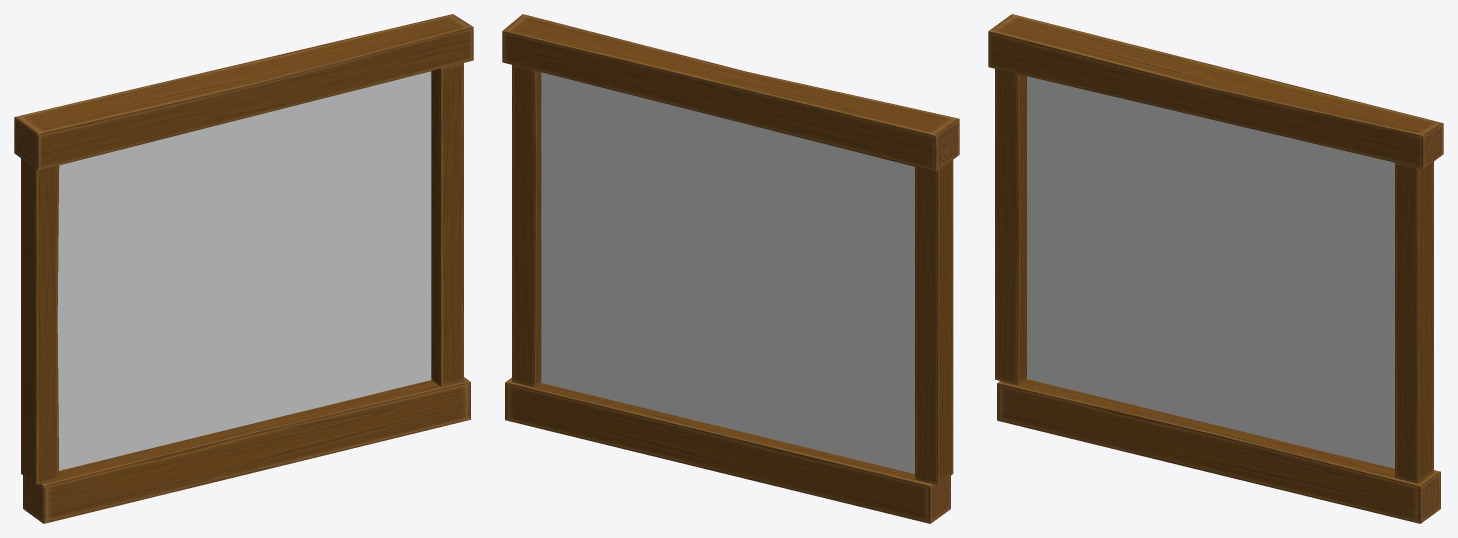
The model's file is SM_House_Window_B.fbx.
3 views of the same model, side by side, from view 1: azimuth 30°, elevation 25°; view 2: azimuth 150°, elevation 25°; view 3: azimuth 330°, elevation 25° (orthographic).
Parts seen in each view (by area): view 1: SM_House_Window_B; view 2: SM_House_Window_B; view 3: SM_House_Window_B.
Part boxes in pixels (x1,y1,x2,y2): SM_House_Window_B: [14, 14, 473, 523]; SM_House_Window_B: [502, 14, 959, 523]; SM_House_Window_B: [988, 14, 1443, 523].
Size of the model in its own units: 2.18 by 1.87 by 0.2044.
